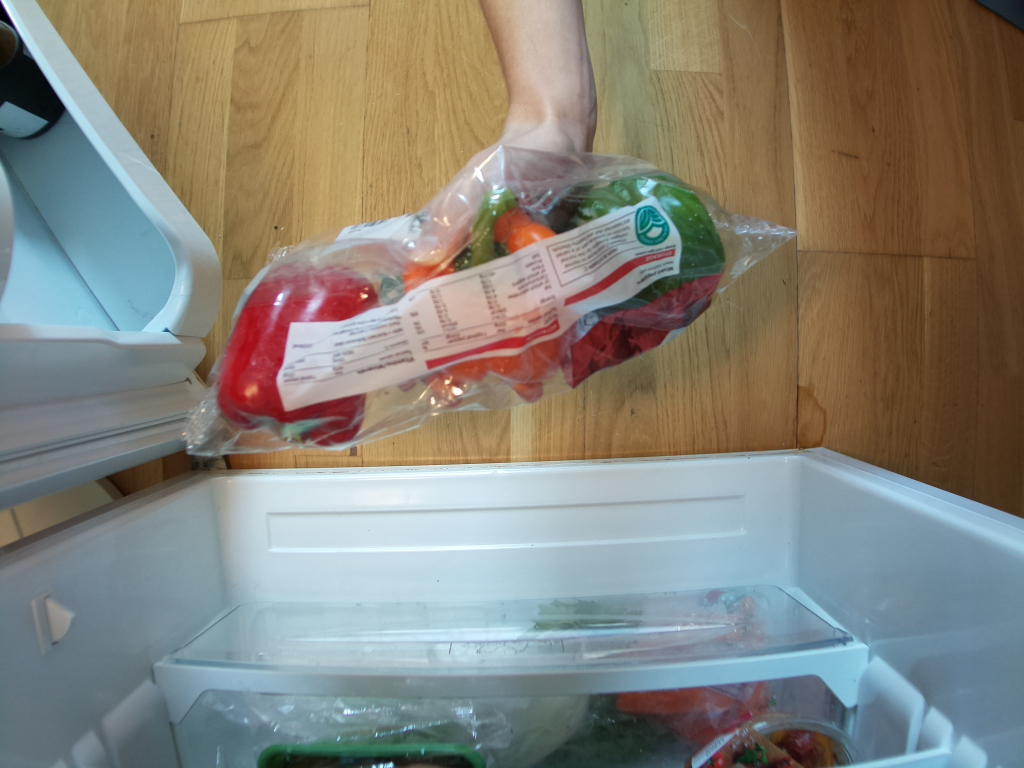pepper: (402, 183, 576, 395), (217, 257, 380, 449), (559, 166, 729, 332)
